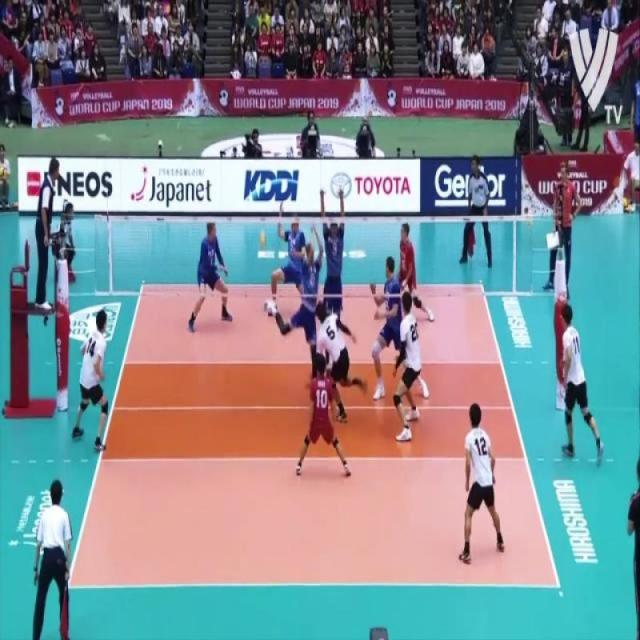volleyball: (260, 229, 265, 246)
